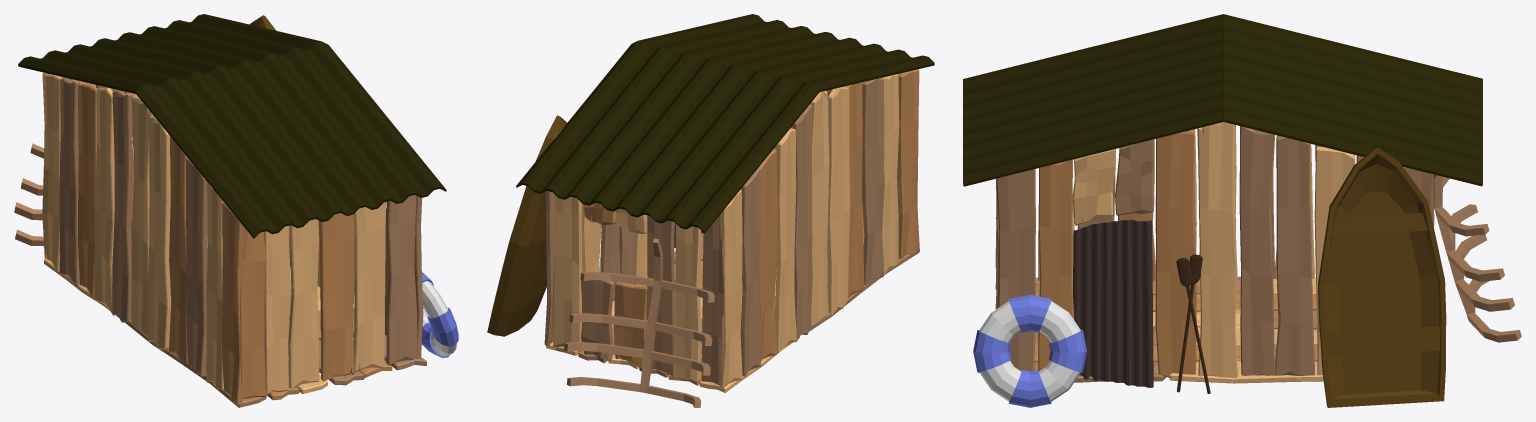
The model's file is BoatShop_V1.0.fbx.
3 renders of one model, left to right at view 1: azimuth 30°, elevation 25°; view 2: azimuth 150°, elevation 25°; view 3: azimuth 270°, elevation 25°, orthographic. The views are drawn at different scales.
Parts seen in each view (by area): view 1: Cube.001, Cube, Plank 3.017, Plank 3.016, Plank 2.013, Plank 2.018, Plank 2.019, Plank 2.011, Plank 3.012, Plank 2.020, Plank 2.009, Plank 3.010 (+12 smaller); view 2: Cube, Cube.001, Boat Skeleton, Boat, Plank 2.013, Plank 3.012, Plank 2.009, Plank 2.015, Plank 2.011, Plank 3.011, Plank 3.010, Plank 2.010 (+18 smaller); view 3: Cube.001, Cube, Boat, Cube.002, Plank 3.005, Plank 2.008, Plank 2.003, Plank 2.005, Plank 3.007, Plank 2.007, Boat Skeleton, safety stuff.001 (+9 smaller).
Part boxes in pixels (x1,y1,x2,y2): Cube.001: (136, 41, 446, 238); Cube: (18, 14, 321, 93); Plank 3.017: (319, 213, 354, 381); Plank 3.016: (353, 202, 386, 371); Plank 2.013: (147, 117, 171, 349); Plank 2.018: (386, 195, 417, 365); Plank 2.019: (288, 219, 319, 389); Plank 2.011: (112, 90, 132, 322); Plank 3.012: (185, 157, 207, 377); Plank 2.020: (264, 225, 290, 394); Plank 2.009: (94, 88, 114, 313); Plank 3.010: (131, 96, 154, 336); Cube: (516, 41, 819, 233); Cube.001: (638, 14, 934, 91); Boat Skeleton: (563, 238, 714, 407); Boat: (487, 115, 566, 336); Plank 2.013: (827, 86, 849, 316); Plank 3.012: (862, 78, 884, 285); Plank 2.009: (775, 128, 796, 353); Plank 2.015: (552, 194, 582, 351); Plank 2.011: (792, 104, 812, 342); Plank 3.011: (897, 69, 919, 259); Plank 3.010: (810, 91, 829, 324); Plank 2.010: (740, 167, 760, 376); Cube.001: (963, 14, 1223, 186); Cube: (1223, 14, 1482, 186); Boat: (1318, 147, 1446, 407); Cube.002: (1073, 219, 1153, 387); Plank 3.005: (1197, 122, 1237, 377); Plank 2.008: (1155, 130, 1196, 377); Plank 2.003: (1274, 136, 1314, 375); Plank 2.005: (1239, 126, 1274, 375); Plank 3.007: (996, 169, 1035, 371); Plank 2.007: (1038, 159, 1074, 371); Boat Skeleton: (1433, 174, 1521, 342); safety stuff.001: (973, 295, 1086, 407).
Size of the model in its own units: 1952 by 1851 by 3336.
